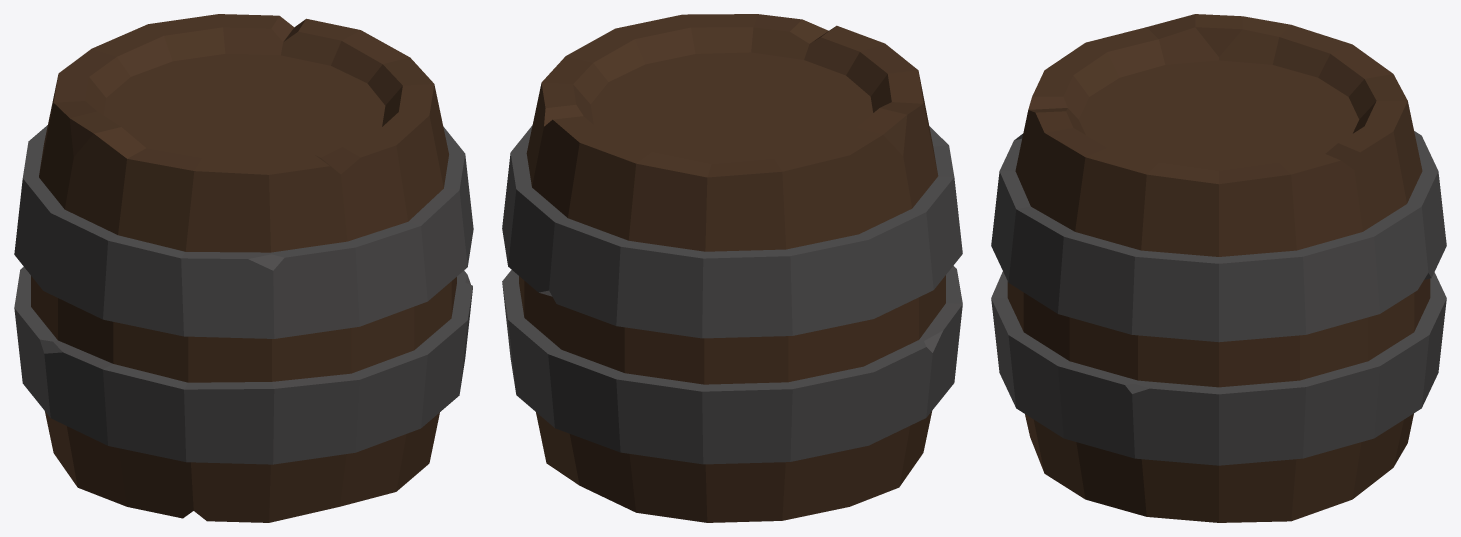
Rendered from Barrel_LP1.glb.
3 renders of one model, left to right at view 1: azimuth 30°, elevation 25°; view 2: azimuth 150°, elevation 25°; view 3: azimuth 270°, elevation 25°, orthographic.
Parts seen in each view (by area): view 1: Cylindre, Cylindre.001; view 2: Cylindre, Cylindre.001; view 3: Cylindre, Cylindre.001.
Boxes of the visible parts, x1,y1,x2,y2 form: Cylindre: (31, 14, 456, 522); Cylindre.001: (14, 125, 473, 464); Cylindre: (519, 14, 945, 522); Cylindre.001: (502, 125, 962, 464); Cylindre: (1007, 14, 1430, 522); Cylindre.001: (991, 131, 1446, 465).
Size of the model in its own units: 2.41 by 2.08 by 2.41.
Materials: 2 (2 with a texture image).
